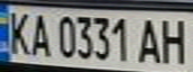0: (54, 11, 75, 60)
1: (109, 14, 133, 62)
3: (90, 14, 112, 61), (72, 12, 93, 61)
A: (136, 15, 163, 64), (27, 10, 54, 57)
H: (157, 15, 190, 64)
K: (3, 8, 33, 56)
